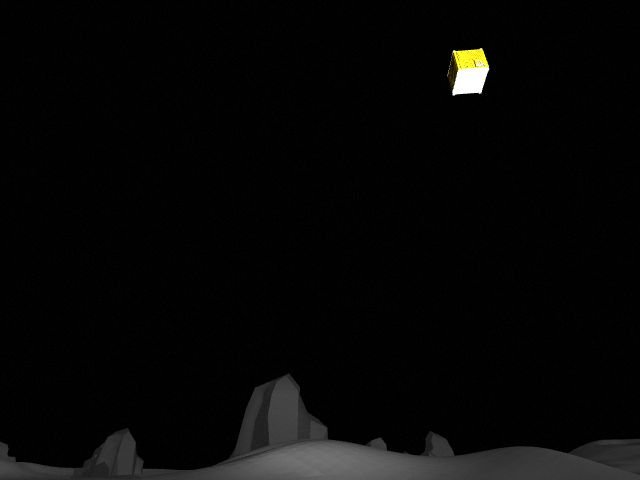cubesat: (444, 39, 492, 100)
